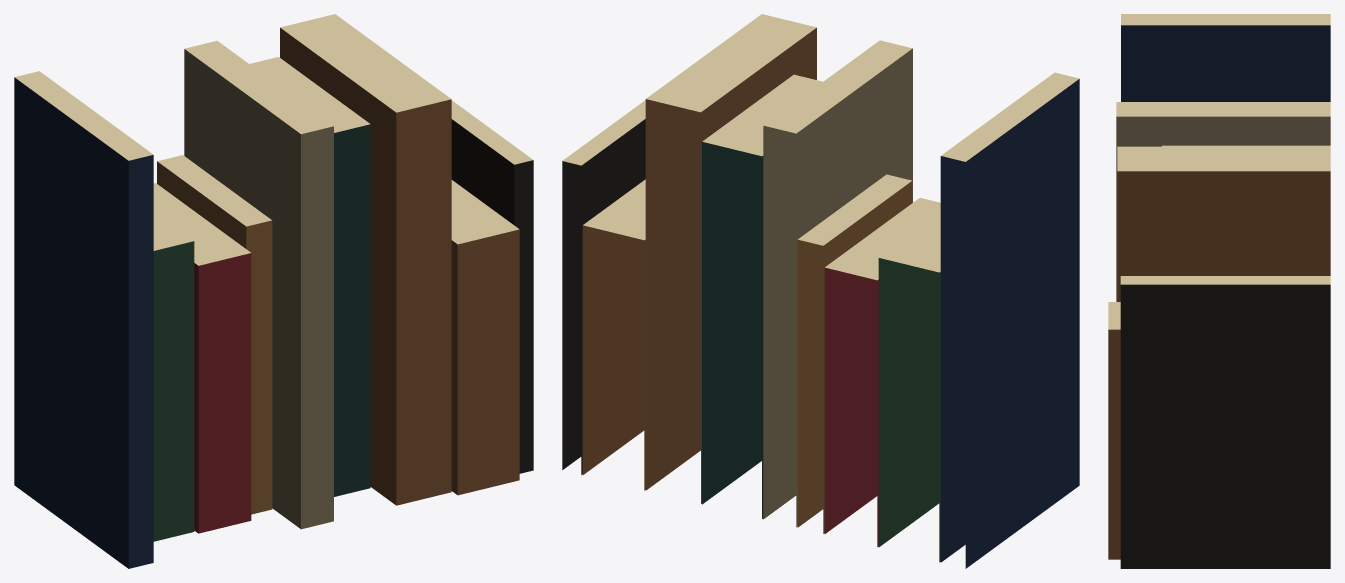
File: bookrow_tall_7_lod.glb
3 renders of one model, left to right at view 1: azimuth 30°, elevation 25°; view 2: azimuth 150°, elevation 25°; view 3: azimuth 270°, elevation 25°, orthographic. The views are drawn at different scales.
Parts seen in each view (by area): view 1: bookrow_tall_7_lod; view 2: bookrow_tall_7_lod; view 3: bookrow_tall_7_lod.
Boxes of the visible parts, box(x1,y1,x2,y2) form: bookrow_tall_7_lod: box(14, 14, 533, 568); bookrow_tall_7_lod: box(562, 14, 1079, 568); bookrow_tall_7_lod: box(1108, 14, 1330, 568).
Bounding box in the file's own units: 0.4771 × 0.4598 × 0.2476.
